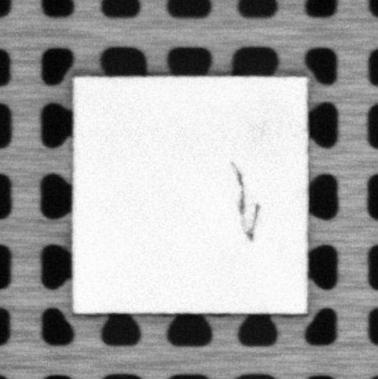DIE_INK: (228, 159, 260, 244)
